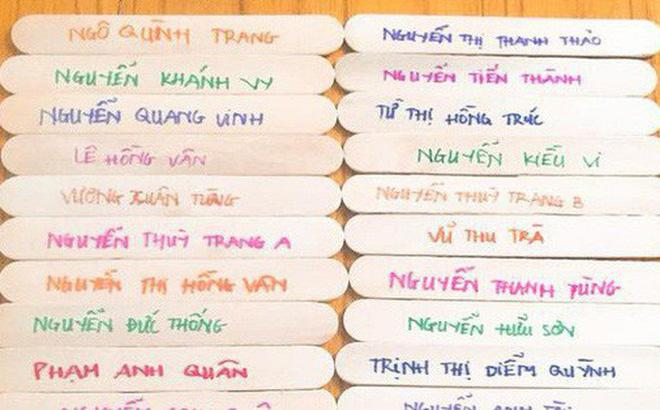text: (386, 265, 623, 300), (42, 267, 289, 299), (36, 95, 268, 129), (366, 350, 618, 381), (53, 59, 276, 94), (44, 225, 294, 254), (67, 17, 281, 49), (382, 23, 603, 51), (374, 182, 587, 211), (30, 306, 230, 336), (414, 140, 604, 171), (32, 358, 250, 385), (374, 97, 547, 129), (382, 61, 585, 87), (57, 183, 243, 210), (406, 311, 577, 339), (73, 143, 208, 170), (60, 394, 274, 410), (426, 220, 546, 247), (403, 392, 575, 410)
